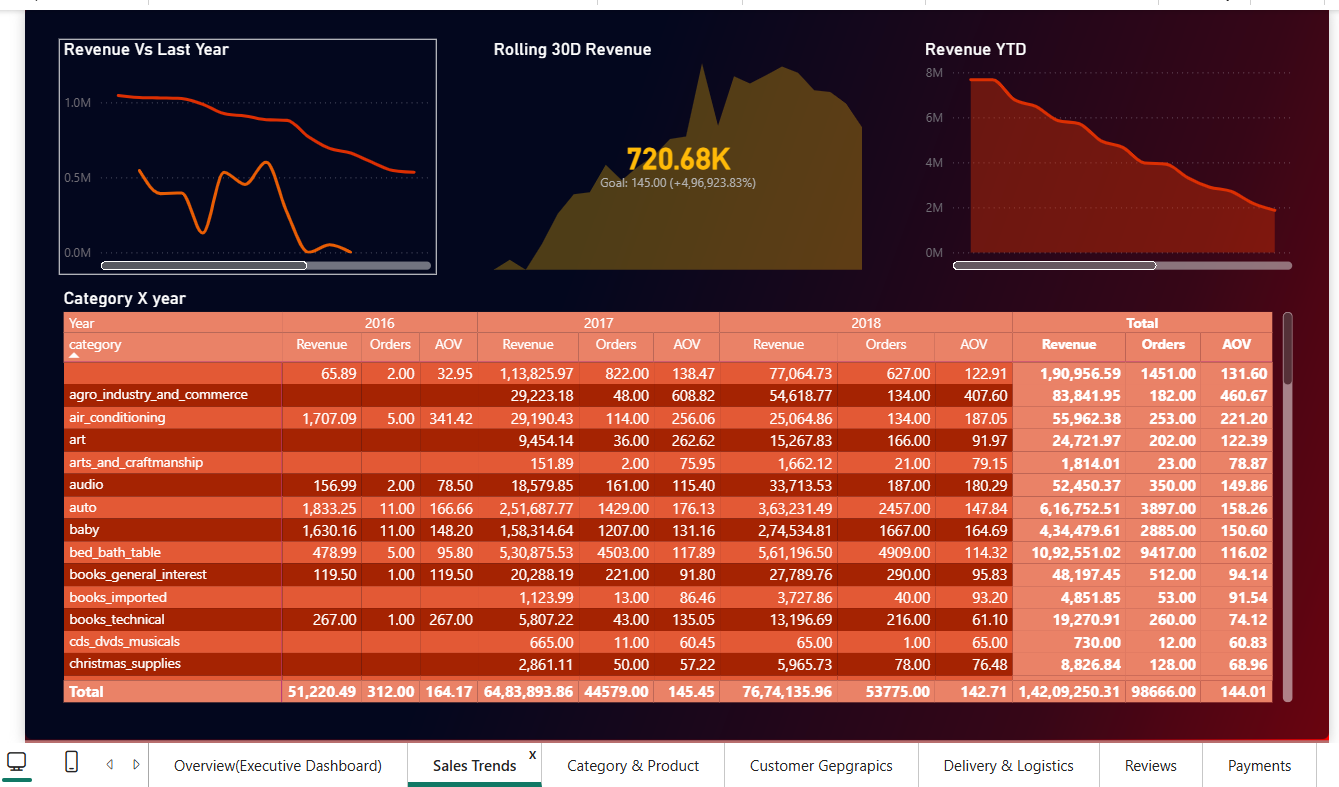

Layout of this report page (visuals, bound fields, positions):
{"tool":"powerbi","page":{"name":"Sales Trends","canvas":[1280,720],"ordinal":1},"visuals":[{"type":"lineChart","title":"Revenue Vs Last Year","fields":{"Category":["DimDate.Year-Month"],"Y":["public bi_fact_sales.Revenue","public bi_fact_sales.Revenue LY"]},"box":[33.1,28.2,370.6,231.9],"z":0},{"type":"kpi","title":"Rolling 30D Revenue ","fields":{"TrendLine":["DimDate.Year-Month"],"Goal":["public bi_fact_sales.Revenue"],"Indicator":["public bi_fact_sales.Rolling 30D Revenue"]},"box":[455.2,28.2,371.8,231.9],"z":1000},{"type":"stackedAreaChart","title":"Revenue YTD ","fields":{"Category":["DimDate.Year-Month"],"Y":["public bi_fact_sales.Revenue YTD"]},"box":[878.5,28.2,370.6,231.9],"z":2000},{"type":"pivotTable","title":"Category X year","fields":{"Rows":["public bi_fact_sales.category"],"Values":["public bi_fact_sales.Revenue","public bi_fact_sales.Orders","DimDate.AOV"],"Columns":["DimDate.Year"]},"box":[33.1,272.4,1216,412.3],"z":3000}]}

Visuals, with their boxes on the page's 1280x720 design canvas (x1, y1, x2, y2). These are canvas units, not pixel positions in the 1339x787 screenshot, which may show the page scaled, cropped or inside an application window:
"Revenue Vs Last Year" lineChart: <bbox>33, 28, 404, 260</bbox>
"Rolling 30D Revenue " kpi: <bbox>455, 28, 827, 260</bbox>
"Revenue YTD " stackedAreaChart: <bbox>878, 28, 1249, 260</bbox>
"Category X year" pivotTable: <bbox>33, 272, 1249, 685</bbox>
